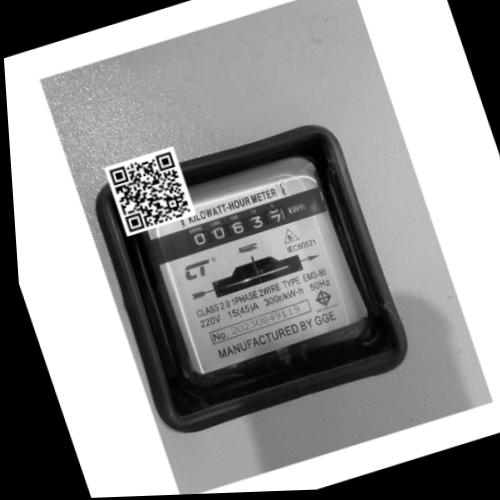qr_code: (103, 145, 197, 235)
